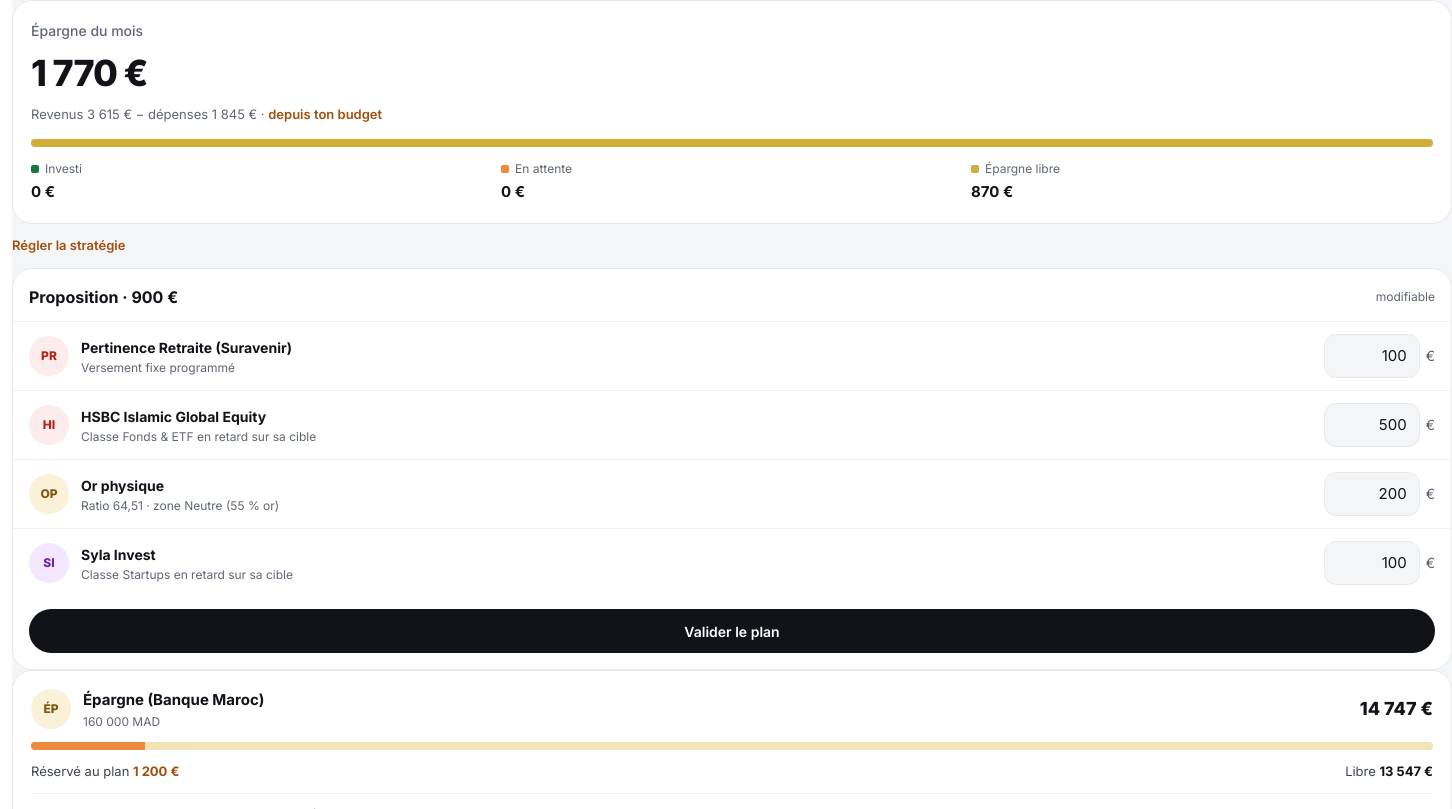
it: EpargneView — proposition à valider › modifier une ligne pour que le total ne fasse plus 900 € désactive le bouton
Replace the text in the field named "Pertinence Retraite" with "150" at (1372, 356), box [1324, 334, 1420, 378]
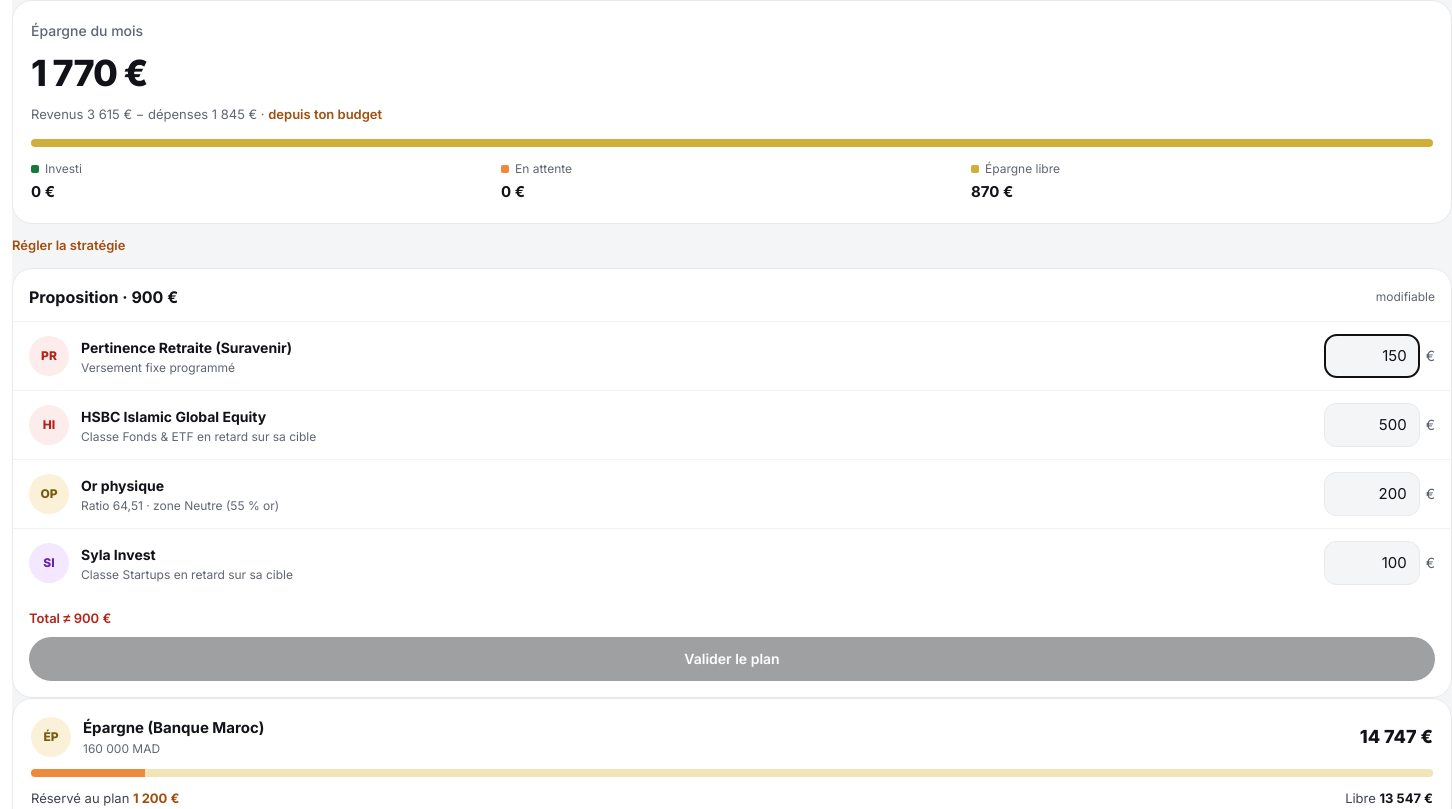
Result: the button "Valider le plan" is disabled at [29, 636, 1435, 680]
Result: the text "Total ≠ 900 €" is shown at [29, 610, 111, 626]
Replace the text in the field named "HSBC" with "450" at (1372, 425), box [1324, 403, 1420, 447]
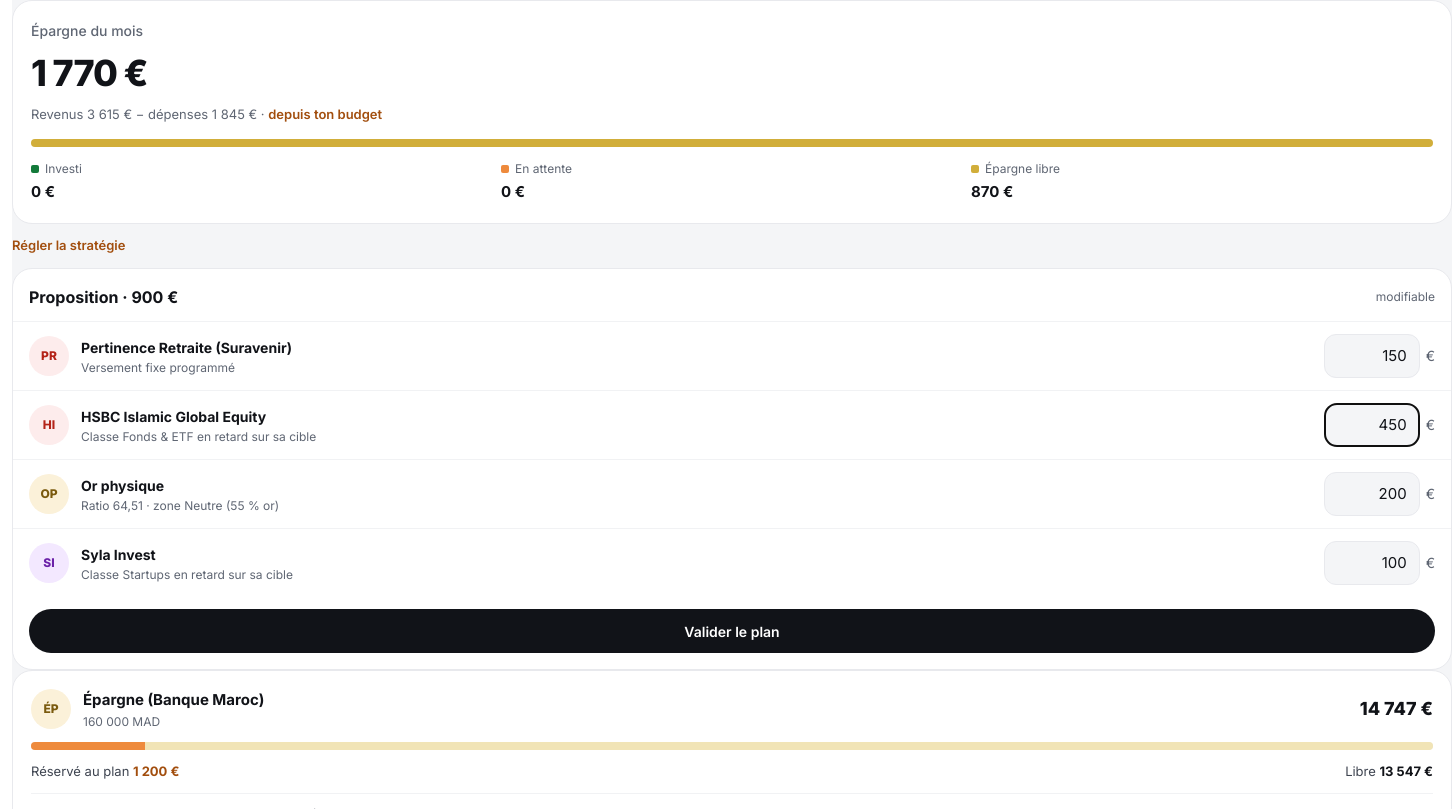
Result: the button "Valider le plan" is enabled at [29, 609, 1435, 653]
Result: the text "Total ≠ 900 €" is gone
